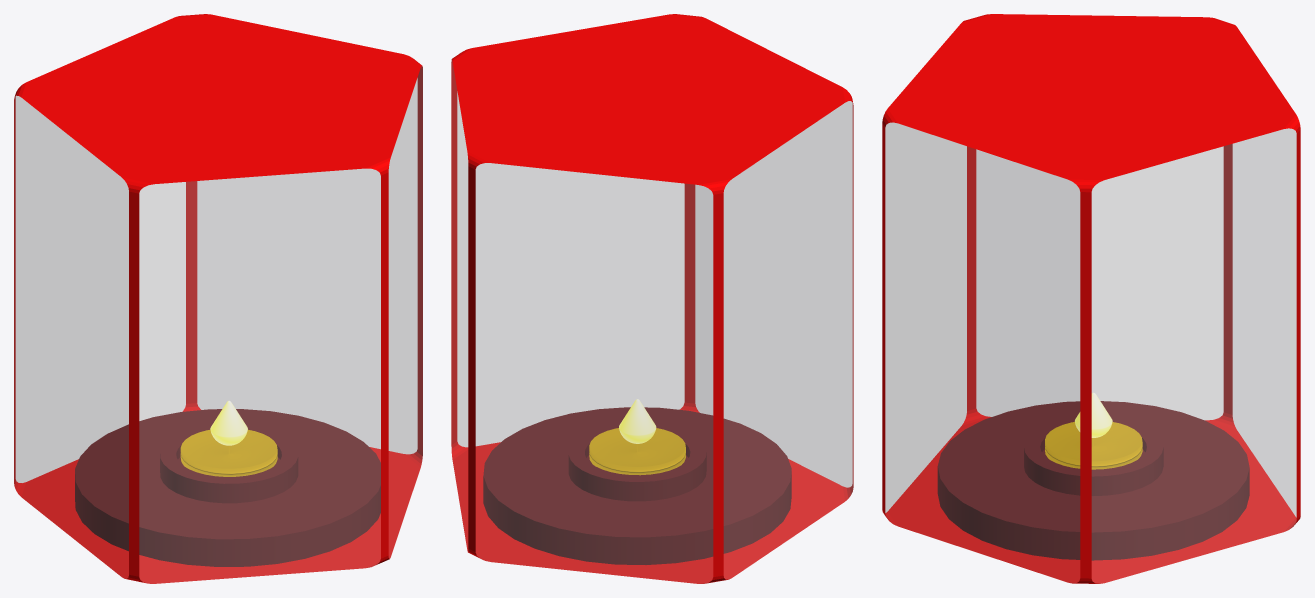
File: diya.gltf
The picture shows the model from 3 angles, left to right: view 1: azimuth 30°, elevation 25°; view 2: azimuth 150°, elevation 25°; view 3: azimuth 270°, elevation 25°; orthographic projection.
Visible parts, largest first — view 1: Cylinder.001_2, Cylinder_1, Cylinder.003_4, Sphere_5; view 2: Cylinder.001_2, Cylinder_1, Cylinder.003_4, Sphere_5; view 3: Cylinder.001_2, Cylinder_1, Cylinder.003_4, Sphere_5.
Boxes of the visible parts, <box> form: Cylinder.001_2: <box>14,14,422,583</box>; Cylinder_1: <box>75,409,380,566</box>; Cylinder.003_4: <box>180,429,277,476</box>; Sphere_5: <box>210,400,247,445</box>; Cylinder.001_2: <box>451,14,853,583</box>; Cylinder_1: <box>483,407,791,564</box>; Cylinder.003_4: <box>589,428,685,475</box>; Sphere_5: <box>619,399,656,443</box>; Cylinder.001_2: <box>882,14,1300,583</box>; Cylinder_1: <box>937,401,1249,560</box>; Cylinder.003_4: <box>1045,422,1142,469</box>; Sphere_5: <box>1074,392,1112,437</box>.
Size of what is drawn, in the model's own units: 4.01 by 4.59 by 4.17.
